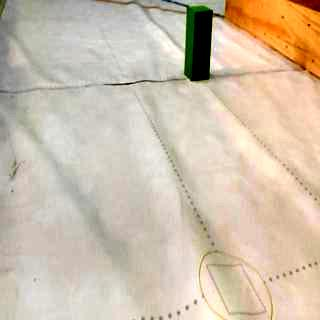greenbox: (184, 2, 214, 82)
